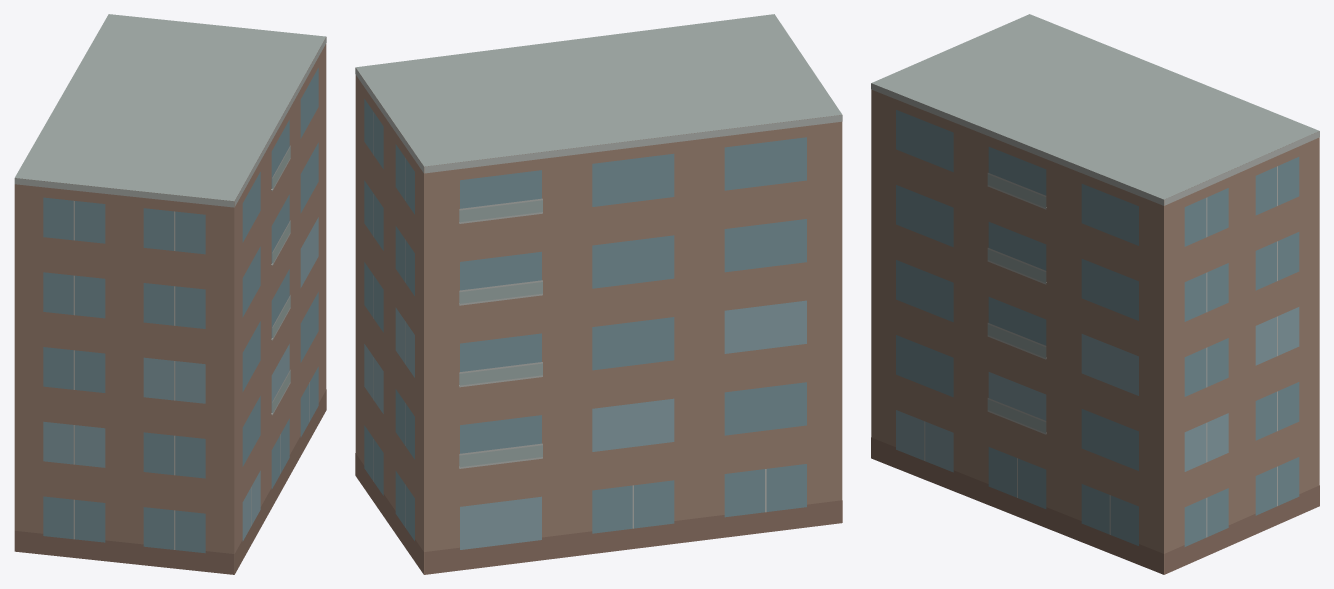
File: survey-upis-32887610.glb
3 views of the same model, side by side, from view 1: azimuth 30°, elevation 25°; view 2: azimuth 150°, elevation 25°; view 3: azimuth 270°, elevation 25° (orthographic). The views are drawn at different scales.
Visible parts, largest first — view 1: survey-upis-32887610.tmp; view 2: survey-upis-32887610.tmp; view 3: survey-upis-32887610.tmp.
Part boxes in pixels (box(x1,y1,x2,y2)): survey-upis-32887610.tmp: box(14, 14, 326, 574); survey-upis-32887610.tmp: box(355, 14, 842, 574); survey-upis-32887610.tmp: box(871, 14, 1319, 574).
Bounding box in the file's own units: 15.28 × 14.4 × 15.61.
